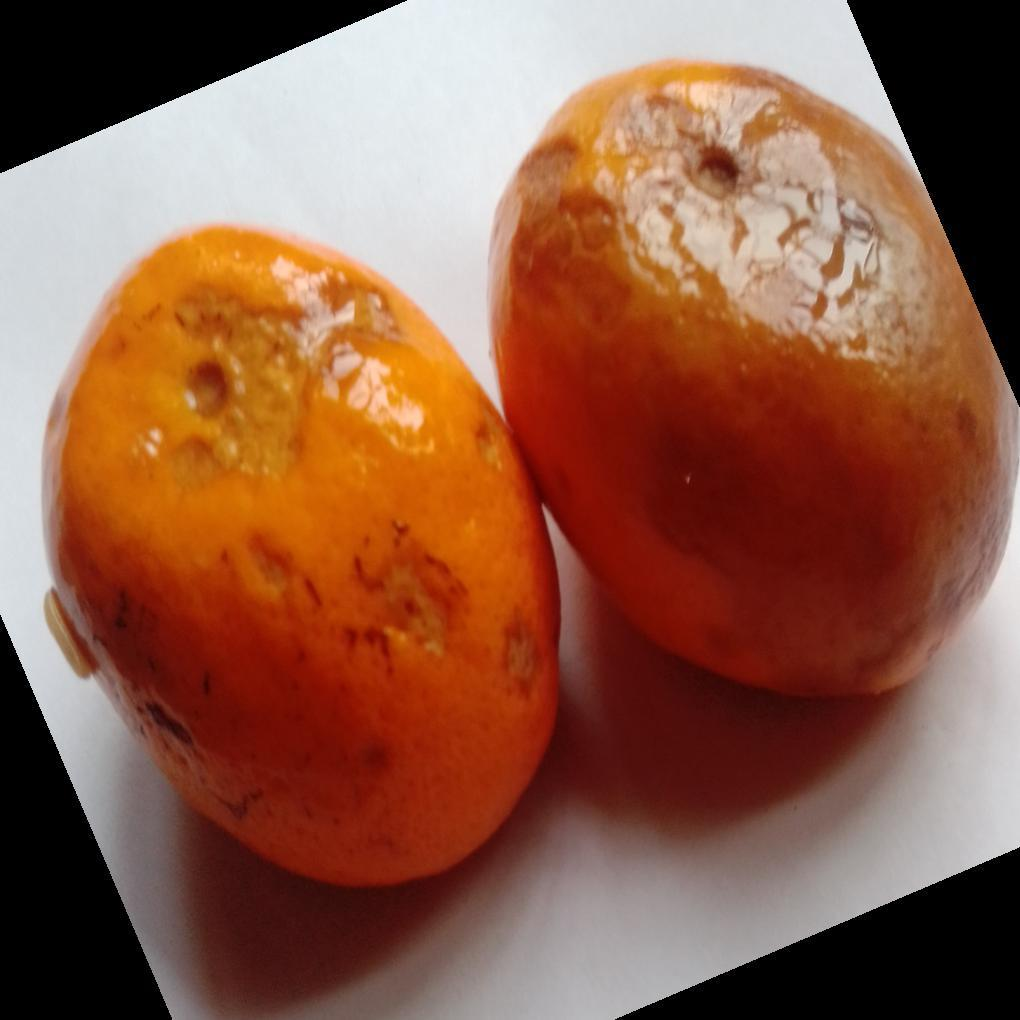FreshOrange: (40, 60, 1020, 894)
